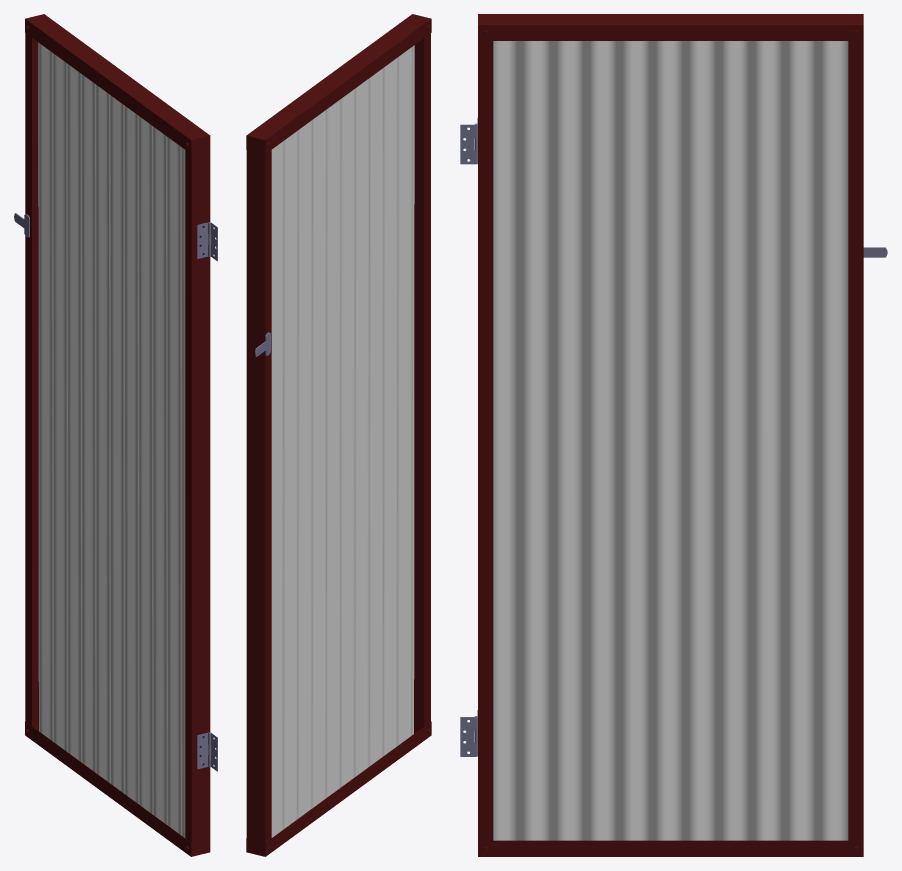
File: GCSG21.glb
3 views of the same model, side by side, from view 1: azimuth 30°, elevation 25°; view 2: azimuth 150°, elevation 25°; view 3: azimuth 270°, elevation 25° (orthographic). The views are drawn at different scales.
Parts seen in each view (by area): view 1: GC - GOOD NEIGHBOUR CGI-16 SINGLE DRIVEWAY GATE - VERTICAL -; view 2: GC - GOOD NEIGHBOUR CGI-16 SINGLE DRIVEWAY GATE - VERTICAL -; view 3: GC - GOOD NEIGHBOUR CGI-16 SINGLE DRIVEWAY GATE - VERTICAL -.
Part boxes in pixels (<box>): GC - GOOD NEIGHBOUR CGI-16 SINGLE DRIVEWAY GATE - VERTICAL -: <box>14,14,217,856</box>; GC - GOOD NEIGHBOUR CGI-16 SINGLE DRIVEWAY GATE - VERTICAL -: <box>246,14,431,856</box>; GC - GOOD NEIGHBOUR CGI-16 SINGLE DRIVEWAY GATE - VERTICAL -: <box>460,14,887,856</box>.
Bounding box in the file's own units: 0.0696 × 2.11 × 0.9803.
